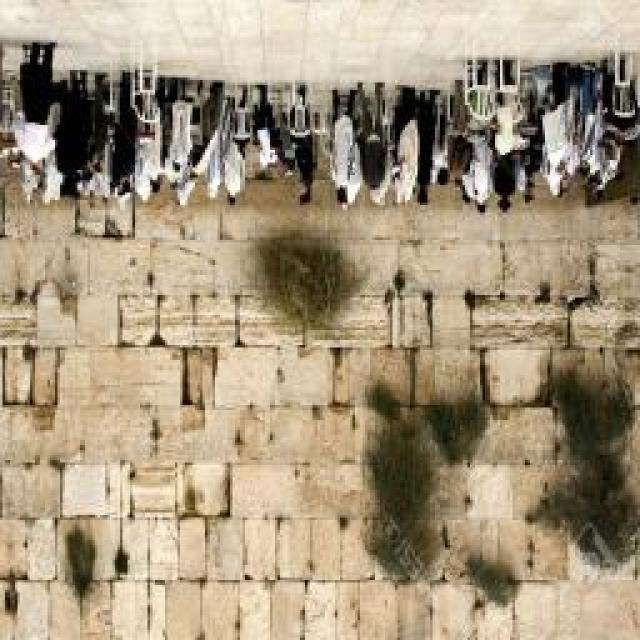crack: (481, 404, 560, 458)
vegetation: (0, 190, 304, 631), (349, 448, 533, 622), (530, 362, 639, 572), (366, 370, 495, 469), (254, 225, 365, 332), (545, 364, 633, 459), (456, 525, 528, 609), (64, 525, 98, 605)
